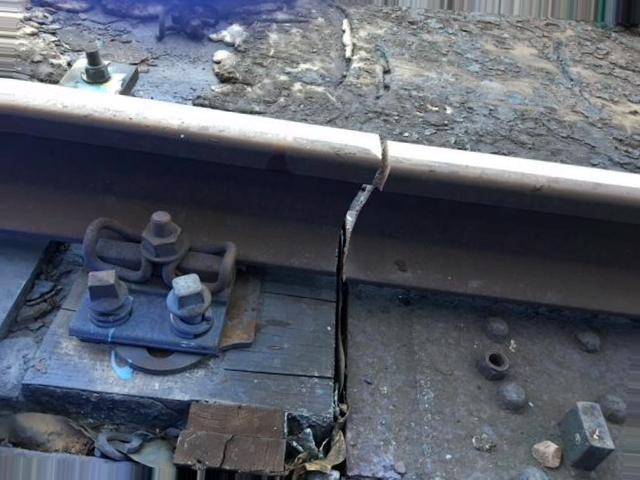tracks_fault: (302, 83, 461, 324)
